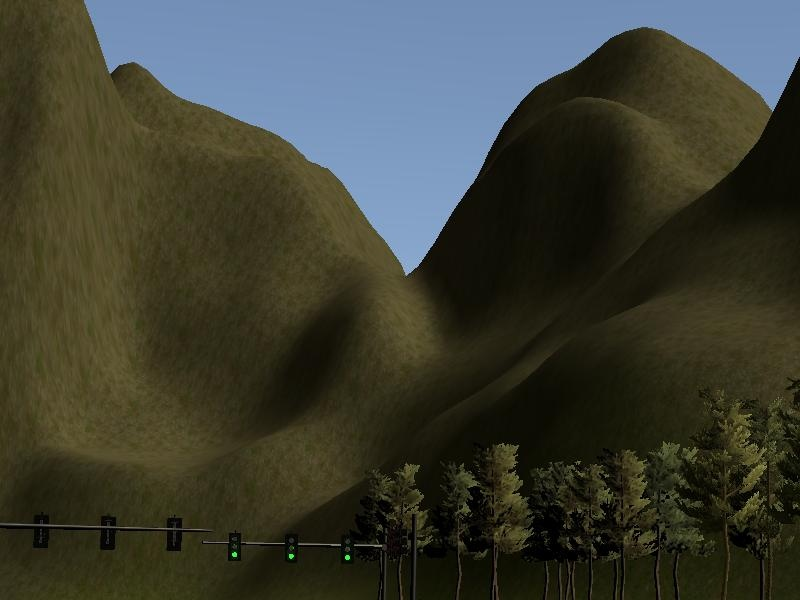green: (285, 534, 299, 564), (341, 533, 354, 564), (228, 530, 241, 560)
